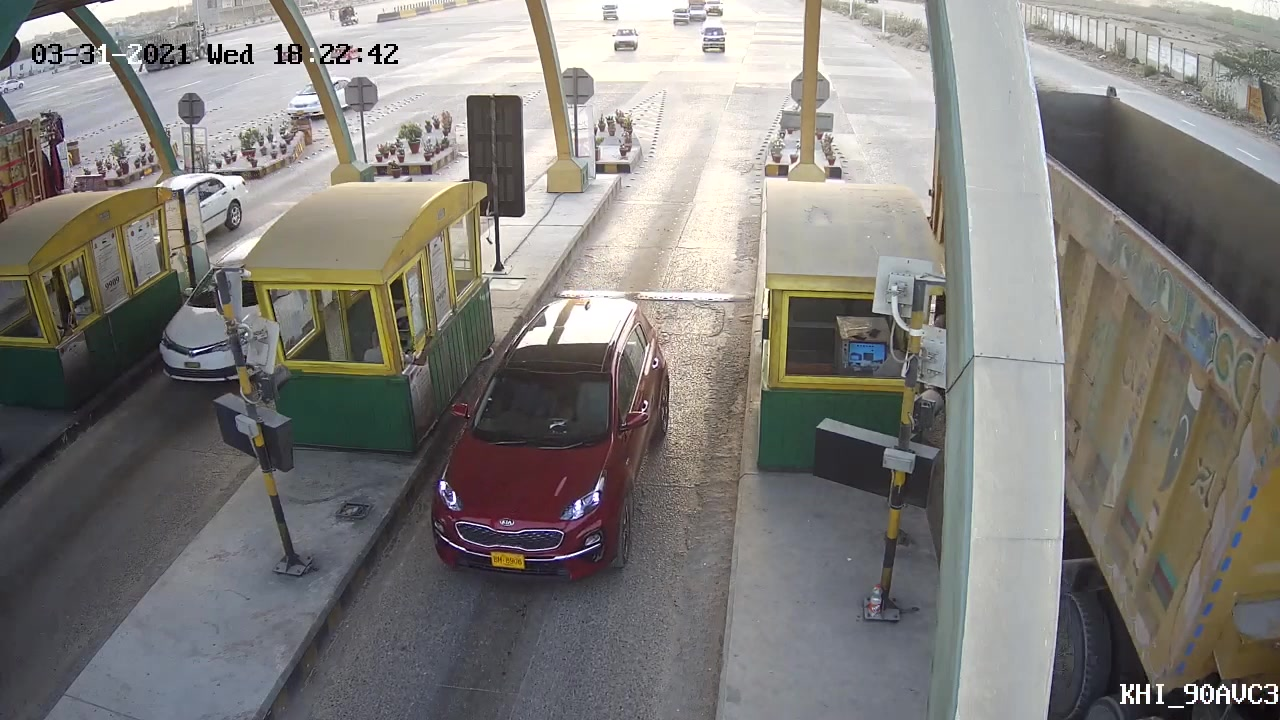F1: (423, 293, 677, 579)
